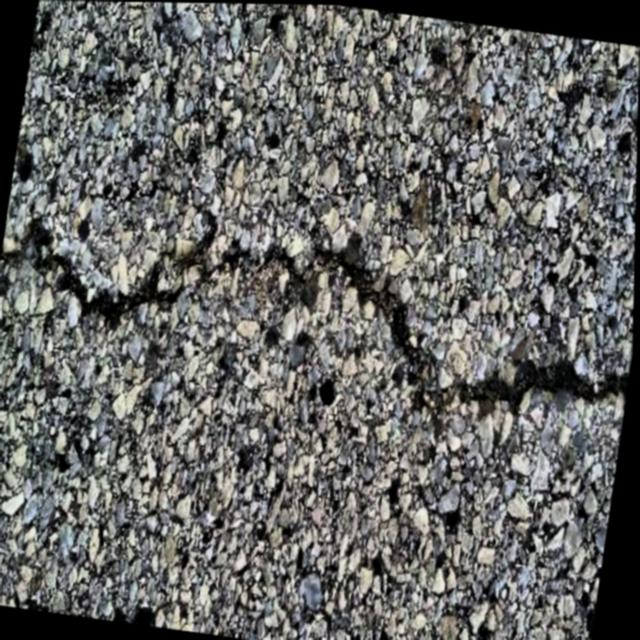Clogged Drains: (0, 218, 631, 403)
